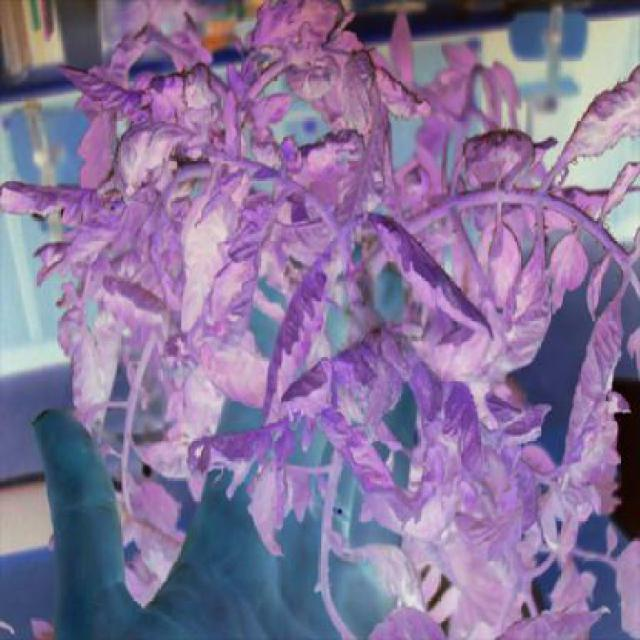Tomato yellow virus leaf: (360, 204, 489, 336), (265, 234, 343, 420), (317, 409, 403, 498), (208, 220, 260, 356), (544, 230, 594, 312), (370, 66, 432, 125)
